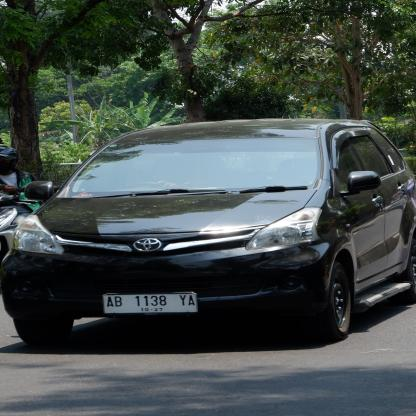Plat-Nomor: (99, 290, 202, 316)
